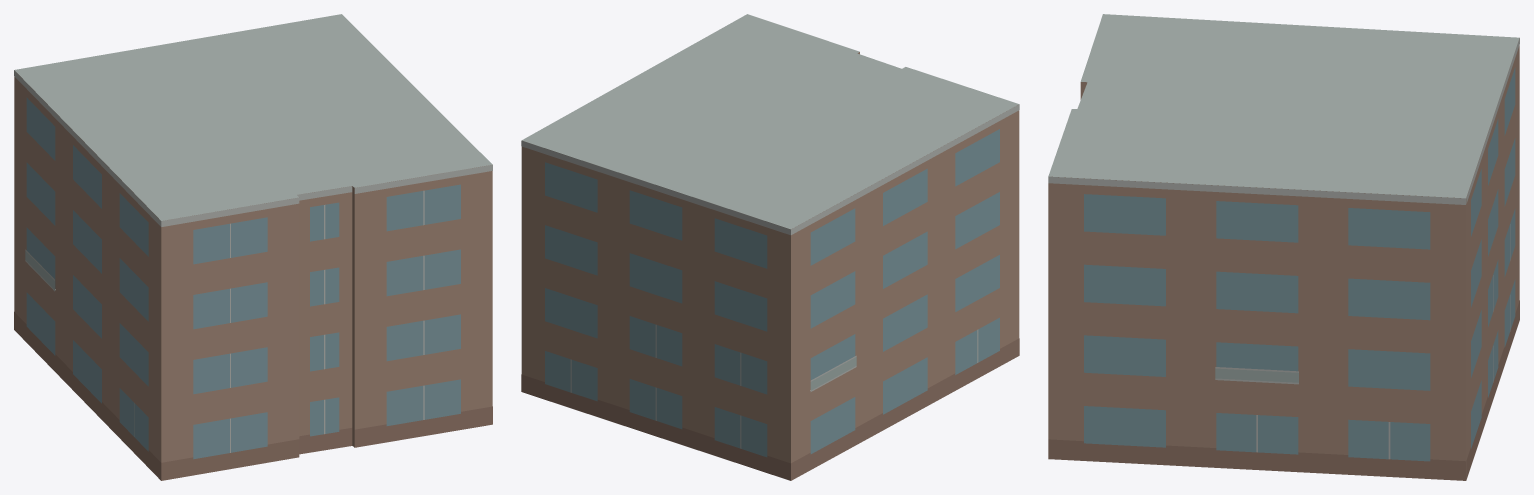
File: survey-upis-32885778.glb
3 views of the same model, side by side, from view 1: azimuth 30°, elevation 25°; view 2: azimuth 150°, elevation 25°; view 3: azimuth 270°, elevation 25° (orthographic). The views are drawn at different scales.
Parts seen in each view (by area): view 1: survey-upis-32885778.tmp; view 2: survey-upis-32885778.tmp; view 3: survey-upis-32885778.tmp.
Part boxes in pixels (x1,y1,x2,y2): survey-upis-32885778.tmp: (14,14,492,480); survey-upis-32885778.tmp: (521,14,1019,480); survey-upis-32885778.tmp: (1048,14,1519,480).
Bounding box in the file's own units: 14.43 × 10.3 × 15.59.
